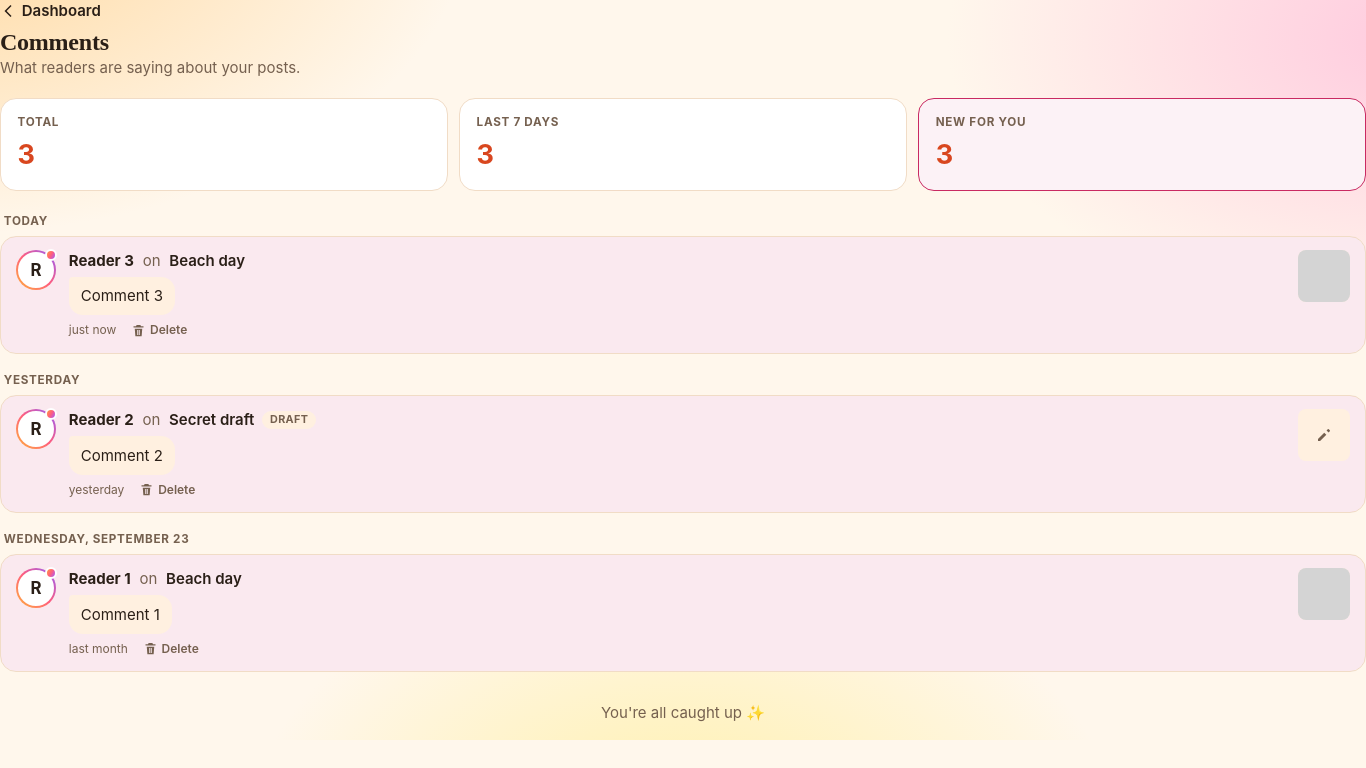
Test: AdminCommentsPage › opens the post in a popup instead of leaving the page
The width and height of the screenshot is (1366, 768).
Expected: the text "Comment 3" is shown, [69,277,175,316]
Click the link "Beach day" in the row of "Reader 3": coordinates (207, 261) [169,250,245,271]
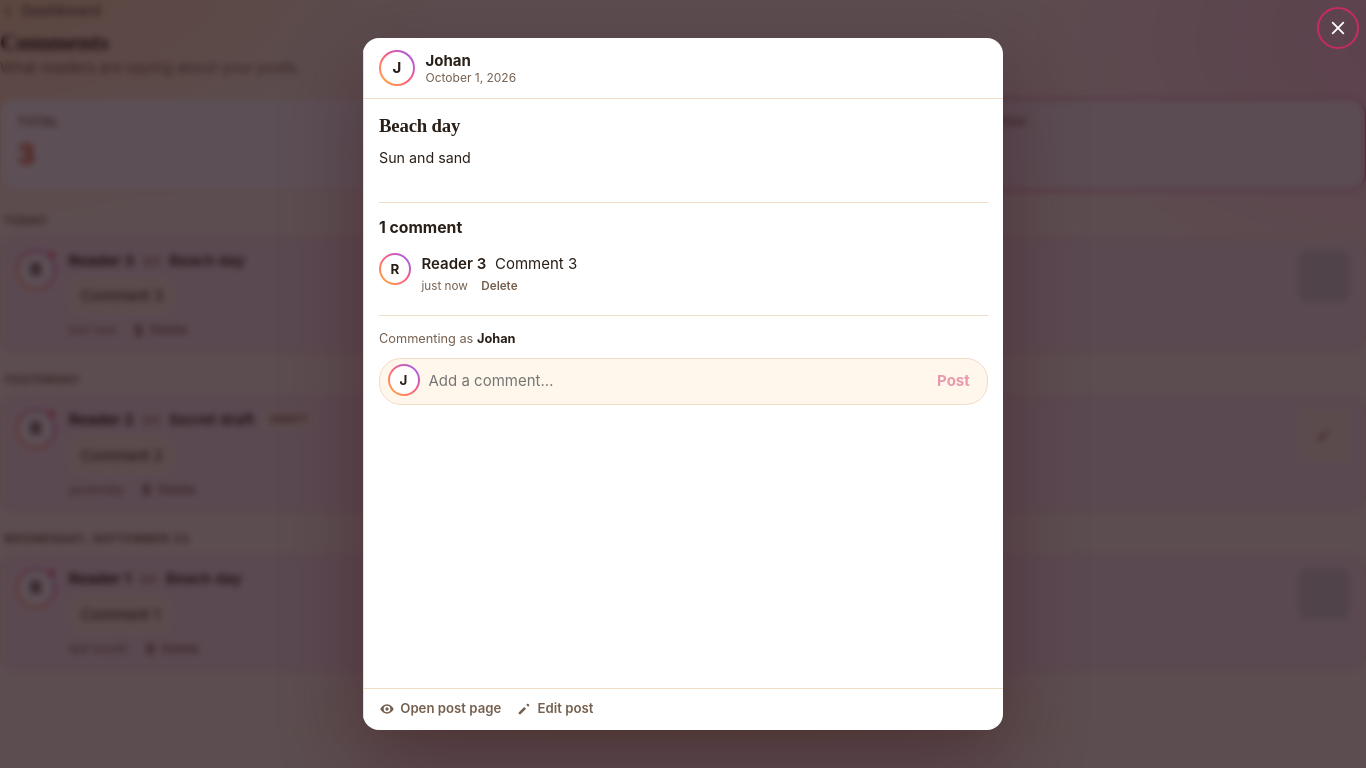
Expected: the text "Sun and sand" is shown, [379,149,471,166]
Expected: the heading "1 comment" is shown, [379,218,462,237]
Deleting inside the popup also removes it from the activity list.
Click the button named "Delete comment by Reader 3": coordinates (499, 287) [481,278,518,295]
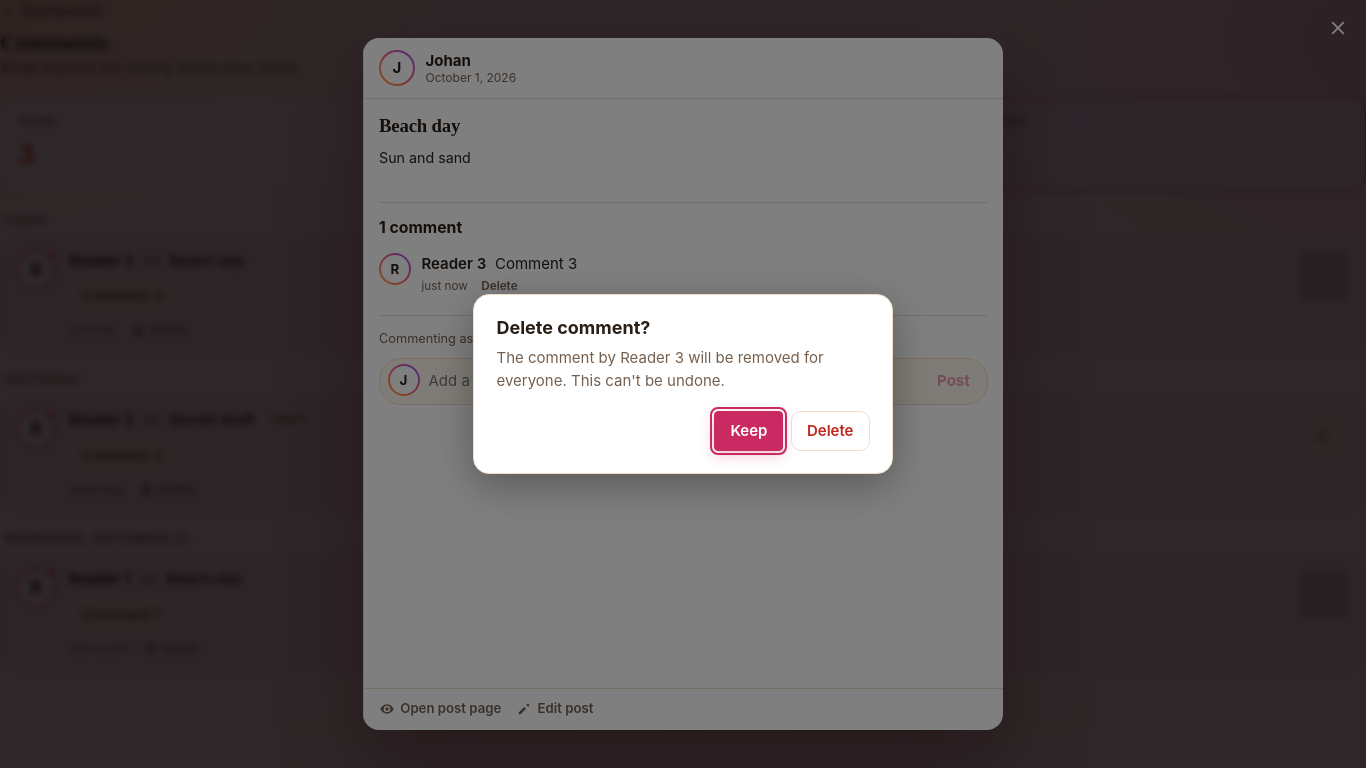
Click the button "Delete": coordinates (830, 431) [791,411,870,451]
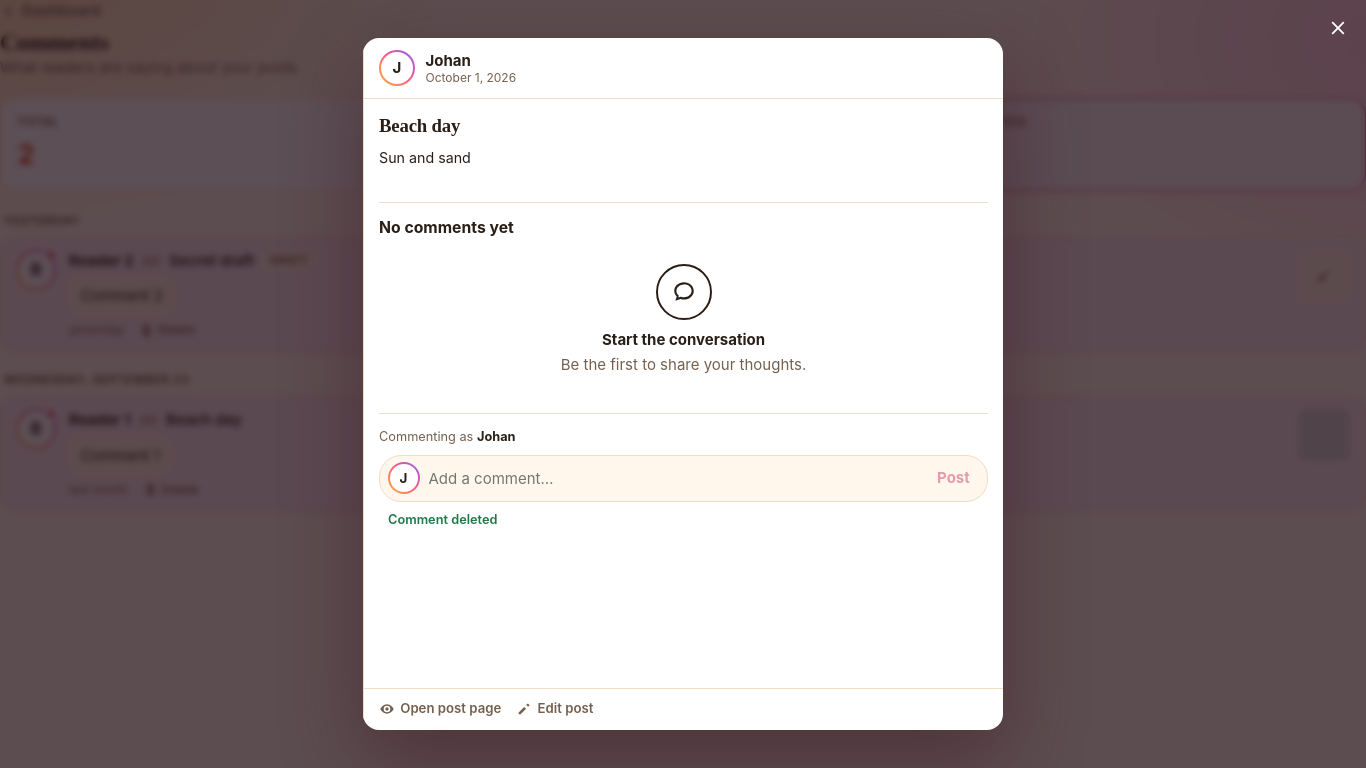
Expected: the text "Comment 3" is gone
Click the button named "Close": coordinates (1338, 28) [1321,11,1355,45]
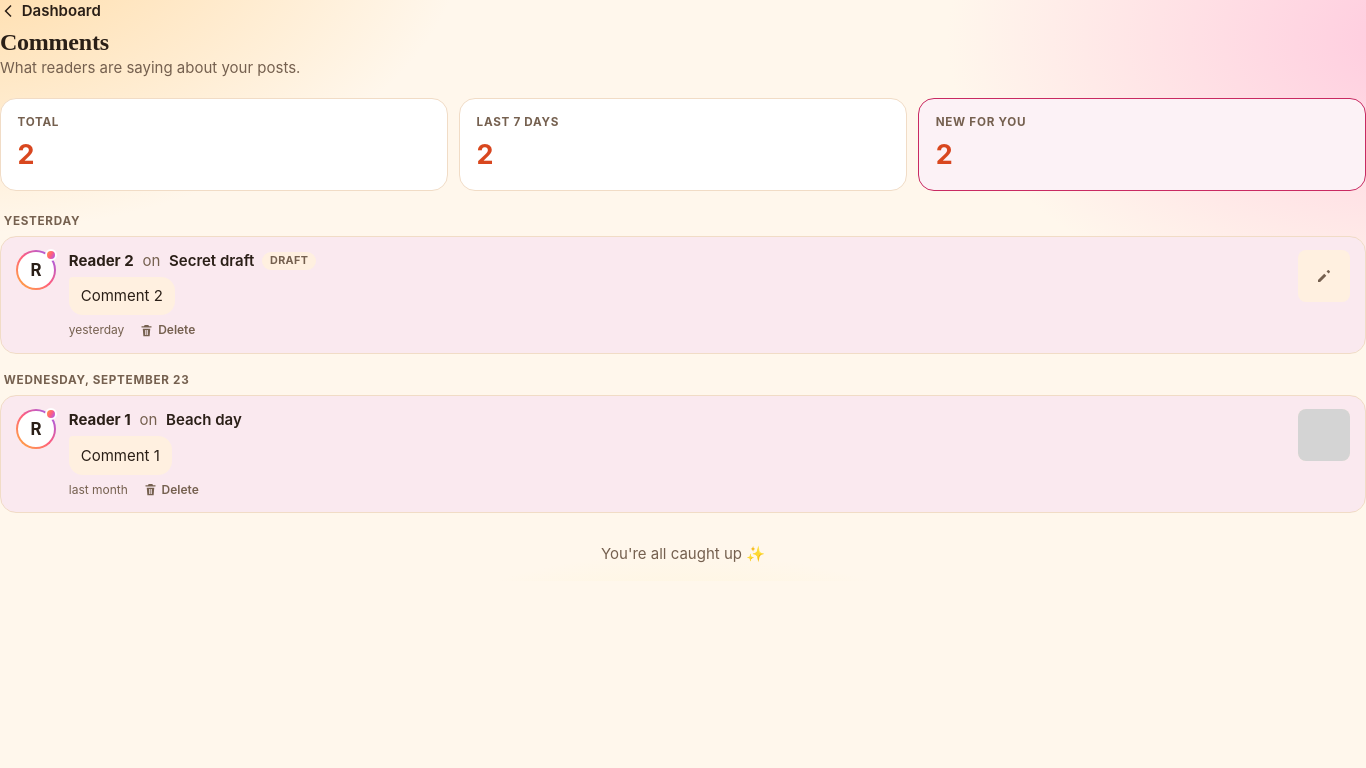
Expected: the dialog is gone
